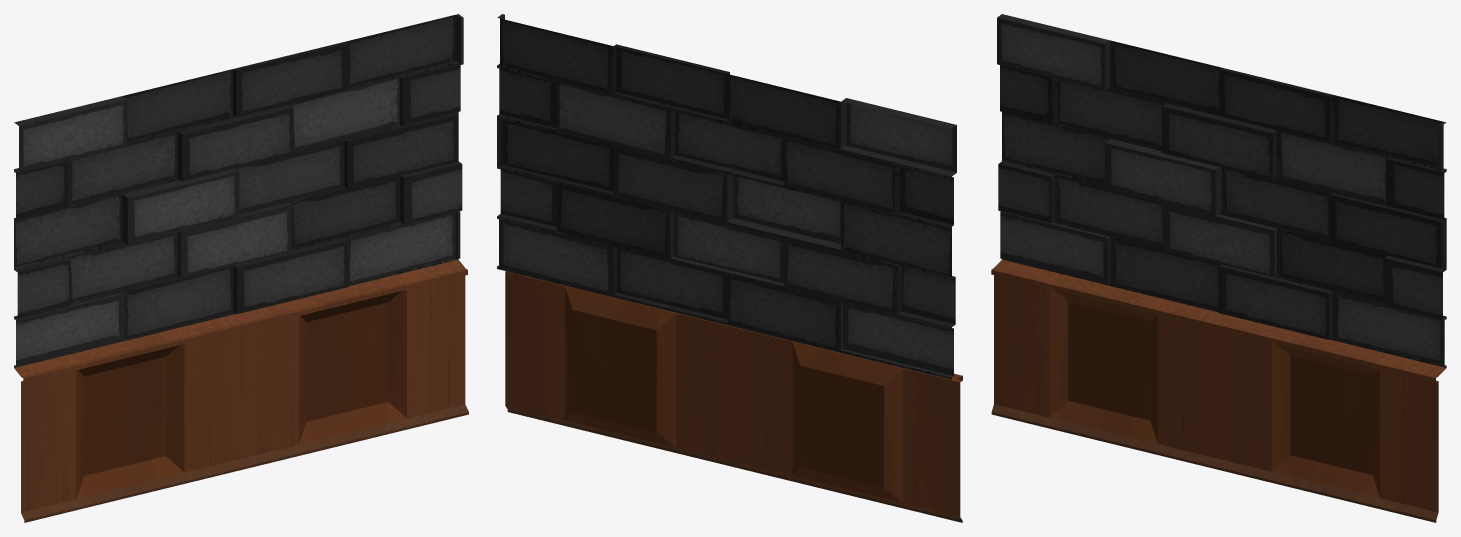
File: Wall_A.fbx
3 views of the same model, side by side, from view 1: azimuth 30°, elevation 25°; view 2: azimuth 150°, elevation 25°; view 3: azimuth 330°, elevation 25° (orthographic). The views are drawn at different scales.
Parts seen in each view (by area): view 1: Wall_A.003; view 2: Wall_A.003; view 3: Wall_A.003.
Boxes of the visible parts, <box> form: Wall_A.003: <box>14,14,468,522</box>; Wall_A.003: <box>497,14,962,522</box>; Wall_A.003: <box>991,14,1446,522</box>.
Bounding box in the file's own units: 9918 × 8366 × 400.
Materials: 1 (1 with a texture image).
